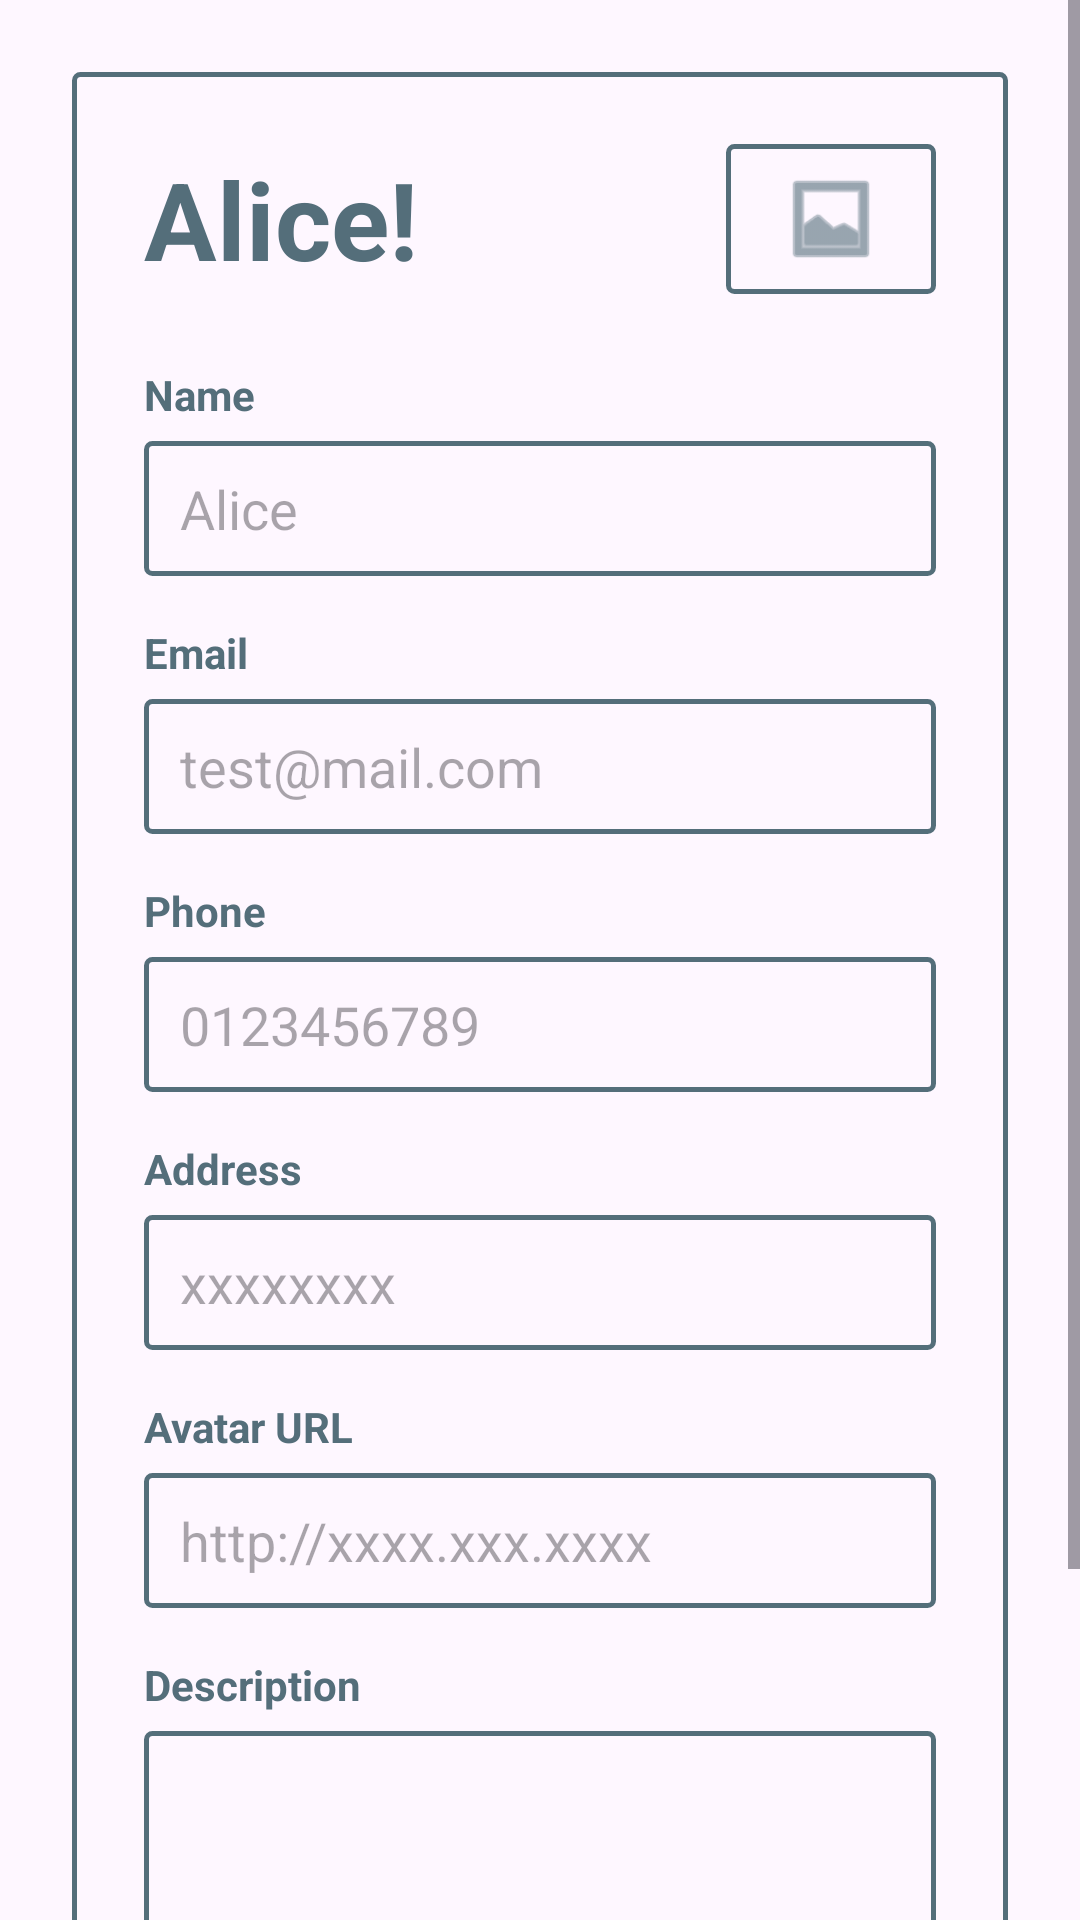

Where to tap for icons on this 1080px x 1920px app screen, as point (x, y):
gallery: point (831, 219)
